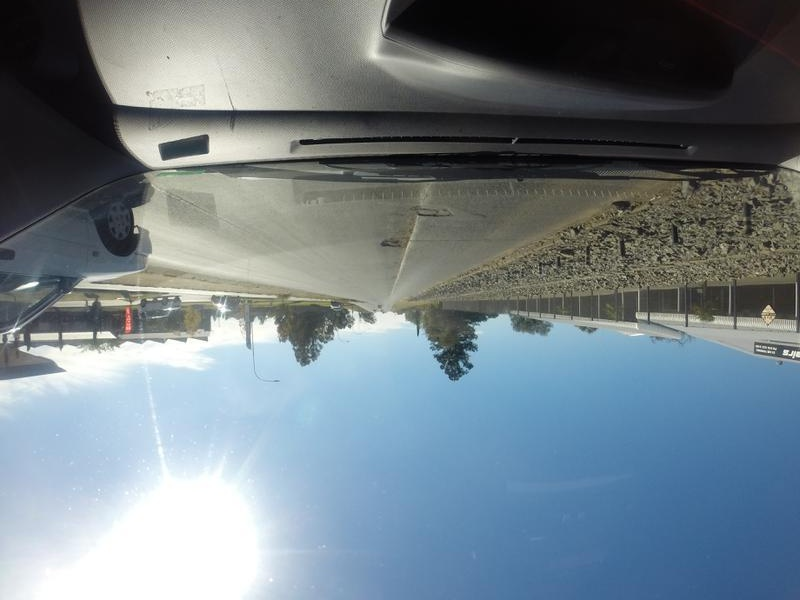pothole: (407, 205, 446, 219), (379, 236, 405, 250)
